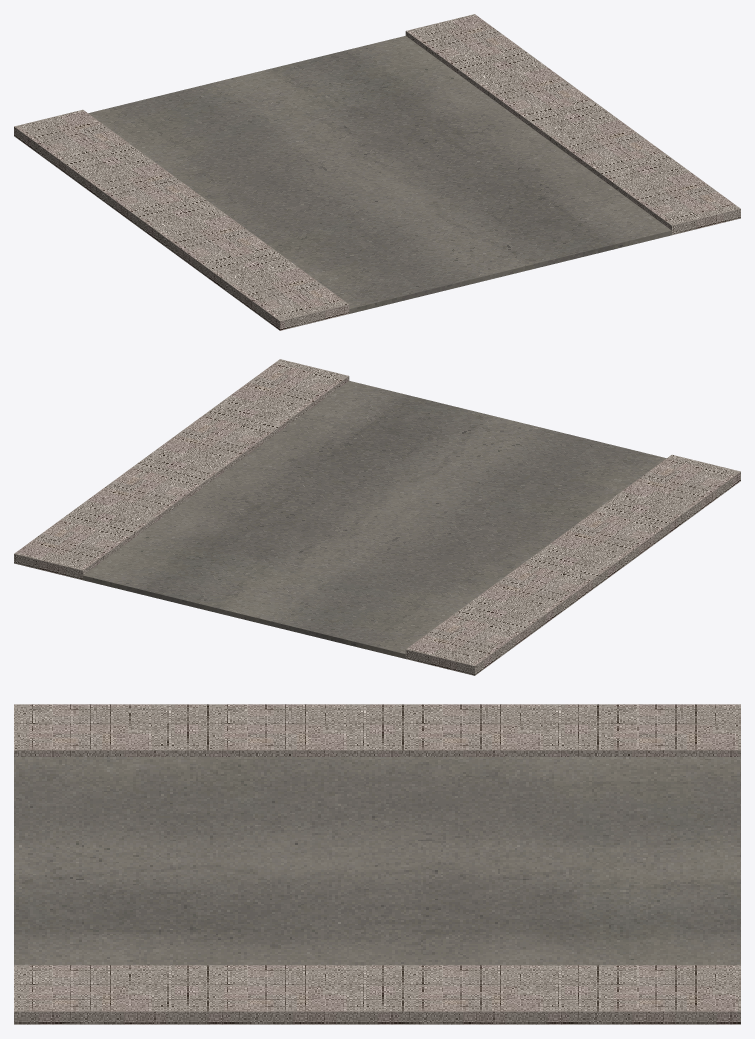
Rendered from road_3_straight.glb.
3 views of the same model, one above another, from view 1: azimuth 30°, elevation 25°; view 2: azimuth 150°, elevation 25°; view 3: azimuth 270°, elevation 25° (orthographic). The views are drawn at different scales.
Visible parts, largest first — view 1: road_3_straight; view 2: road_3_straight; view 3: road_3_straight.
Part boxes in pixels (x1=…): road_3_straight: x1=14, y1=14, x2=740, y2=330; road_3_straight: x1=14, y1=359, x2=740, y2=675; road_3_straight: x1=14, y1=704, x2=740, y2=1024.
Bounding box in the file's own units: 16 × 0.32 × 16.
Materials: 2 (2 with a texture image).
